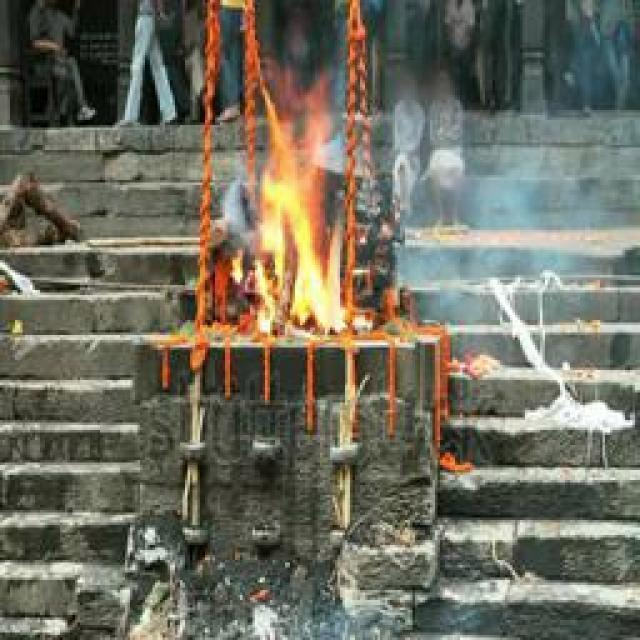Fire: (246, 68, 363, 348)
